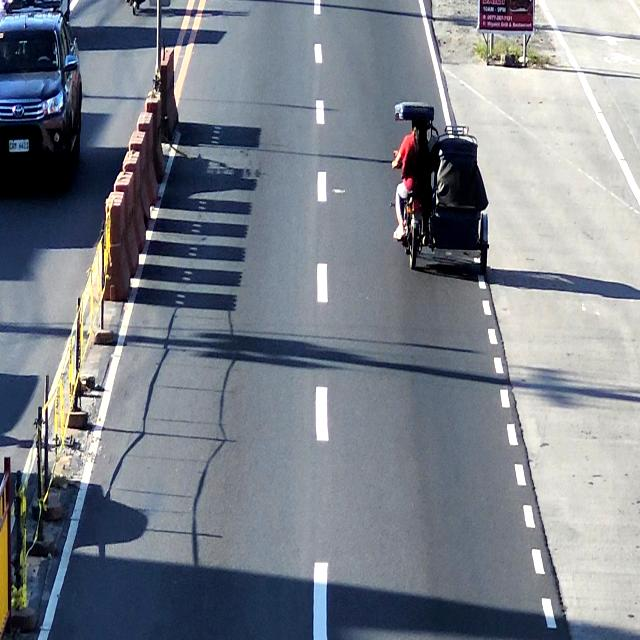Tricycle: (391, 102, 493, 275)
